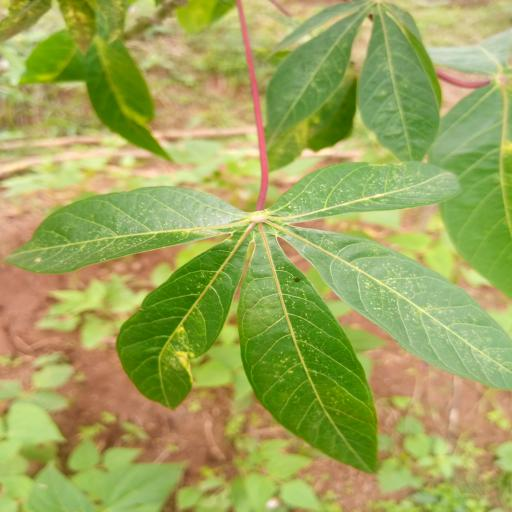Cassava_Mosaic: (8, 156, 512, 470)
